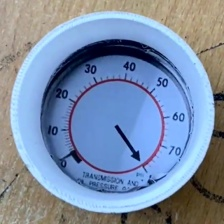gauge: (41, 48, 190, 193)
